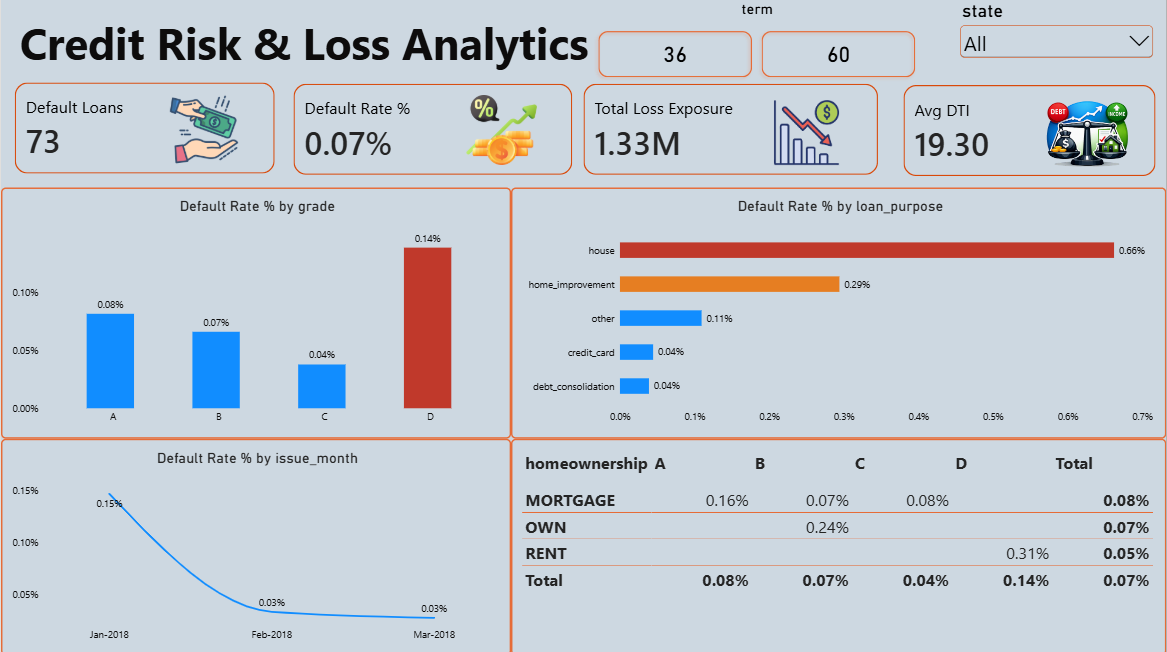

This screenshot's page, from the dashboard's own definition file:
{"tool":"powerbi","page":{"name":"Credit Risk & Loss Analytics","canvas":[1920,1080],"ordinal":1},"visuals":[{"type":"slicer","fields":{"Values":["public loan_portfolio.state"]},"box":[1574.6,0,327.3,135.8],"z":0},{"type":"advancedSlicerVisual","fields":{"Values":["public loan_portfolio.term"]},"box":[975.6,0,539.3,135.8],"z":1000},{"type":"textbox","box":[22.6,20.6,953,115.3],"z":2000},{"type":"cardVisual","fields":{"Data":["Calculated Measures.Default Loans"]},"box":[22.6,135.8,428.1,150.3],"z":3000},{"type":"cardVisual","fields":{"Data":["Calculated Measures.Default Rate %"]},"box":[481.6,137.9,459,150.3],"z":4000},{"type":"cardVisual","fields":{"Data":["Calculated Measures.Total Loss Exposure"]},"box":[959.2,137.9,485.8,150.3],"z":5000},{"type":"cardVisual","fields":{"Data":["Calculated Measures.Avg DTI"]},"box":[1486.1,140,415.8,150.3],"z":6000},{"type":"clusteredColumnChart","fields":{"Category":["public loan_portfolio.grade"],"Y":["Calculated Measures.Default Rate %"]},"box":[0,308.7,839.8,413.7],"z":7000},{"type":"lineChart","fields":{"Category":["public loan_portfolio.issue_month"],"Y":["Calculated Measures.Default Rate %"]},"box":[0,722.5,839.8,358.1],"z":8000},{"type":"clusteredBarChart","fields":{"Category":["public loan_portfolio.loan_purpose"],"Y":["Calculated Measures.Default Rate %"]},"box":[839.8,308.7,1080.6,413.7],"z":9000},{"type":"pivotTable","fields":{"Rows":["public loan_portfolio.homeownership"],"Columns":["public loan_portfolio.grade"],"Values":["Calculated Measures.Default Rate %"]},"box":[839.8,722.5,1080.6,358.1],"z":10000},{"type":"image","box":[236.7,154.4,195.5,117.3],"z":10001},{"type":"image","box":[747.2,156.4,154.4,115.3],"z":10002},{"type":"image","box":[1228.8,164.7,195.5,107],"z":10003},{"type":"image","box":[1675.5,121.4,226.4,224.4],"z":10004}]}

Visuals, with their boxes in screenshot pixels (x1, y1, x2, y2), scaled from the page's 1920x1080 canvas onto the 1167x652 screenshot:
slicer - public loan_portfolio.state: 957 0 1156 82
advancedSlicerVisual - public loan_portfolio.term: 593 0 921 82
textbox: 14 12 593 82
cardVisual - Calculated Measures.Default Loans: 14 82 274 173
cardVisual - Calculated Measures.Default Rate %: 293 83 572 174
cardVisual - Calculated Measures.Total Loss Exposure: 583 83 878 174
cardVisual - Calculated Measures.Avg DTI: 903 85 1156 175
clusteredColumnChart - public loan_portfolio.grade x Calculated Measures.Default Rate %: 0 186 510 436
lineChart - public loan_portfolio.issue_month x Calculated Measures.Default Rate %: 0 436 510 651
clusteredBarChart - public loan_portfolio.loan_purpose x Calculated Measures.Default Rate %: 510 186 1166 436
pivotTable - public loan_portfolio.homeownership x public loan_portfolio.grade: 510 436 1166 651
image: 144 93 263 164
image: 454 94 548 164
image: 747 99 866 164
image: 1018 73 1156 209
